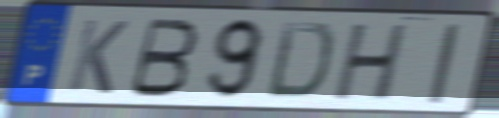9: (202, 16, 269, 103)
B: (124, 16, 202, 101)
D: (262, 19, 337, 102)
H: (329, 21, 413, 104)
I: (424, 21, 463, 107)
K: (64, 16, 132, 97)
